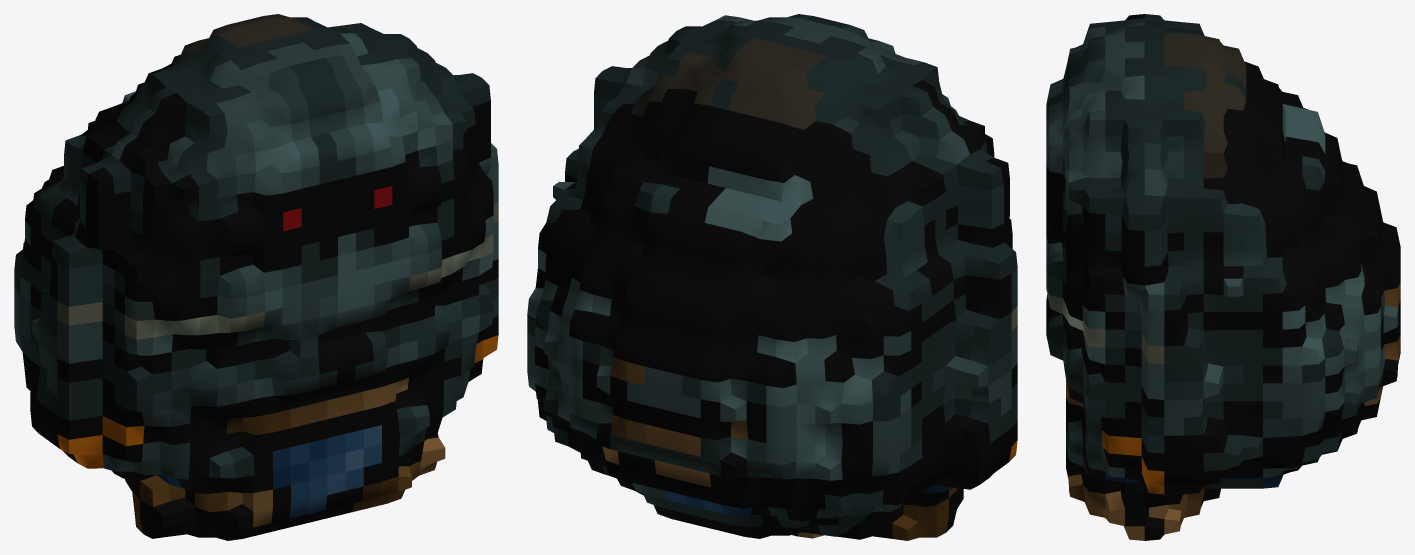
Rendered from Icon_730_03.obj.
The picture shows the model from 3 angles, left to right: view 1: azimuth 30°, elevation 25°; view 2: azimuth 150°, elevation 25°; view 3: azimuth 270°, elevation 25°; orthographic projection. The views are drawn at different scales.
Size of the model in its own units: 2.4 by 2.4 by 1.8.
1 material, 1 textured.
